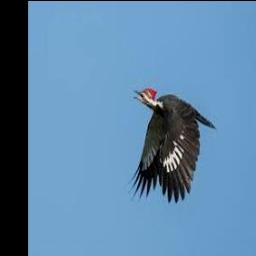Woodpecker: (128, 87, 216, 204)
